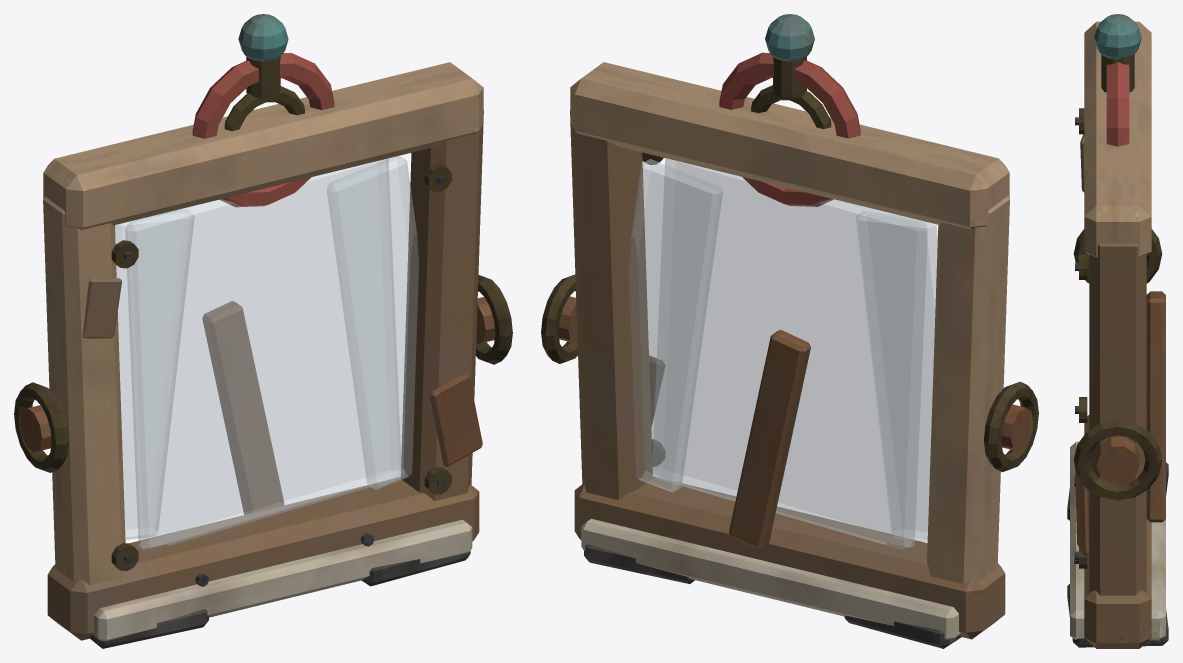
Rendered from C11_mirror_maze_mirror.glb.
3 views of the same model, side by side, from view 1: azimuth 30°, elevation 25°; view 2: azimuth 150°, elevation 25°; view 3: azimuth 270°, elevation 25° (orthographic). The views are drawn at different scales.
Parts seen in each view (by area): view 1: mirror glass center; view 2: mirror glass center; view 3: mirror glass center.
Boxes of the visible parts, x1=… form: mirror glass center: x1=14, y1=14, x2=512, y2=648; mirror glass center: x1=541, y1=14, x2=1038, y2=648; mirror glass center: x1=1067, y1=14, x2=1168, y2=648.
Bounding box in the file's own units: 1.7 × 2 × 0.3357.
10 materials, 9 textured.
